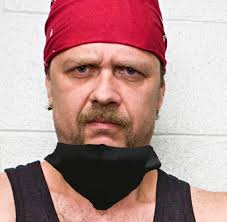mask_weared_incorrect: (54, 59, 158, 167)
